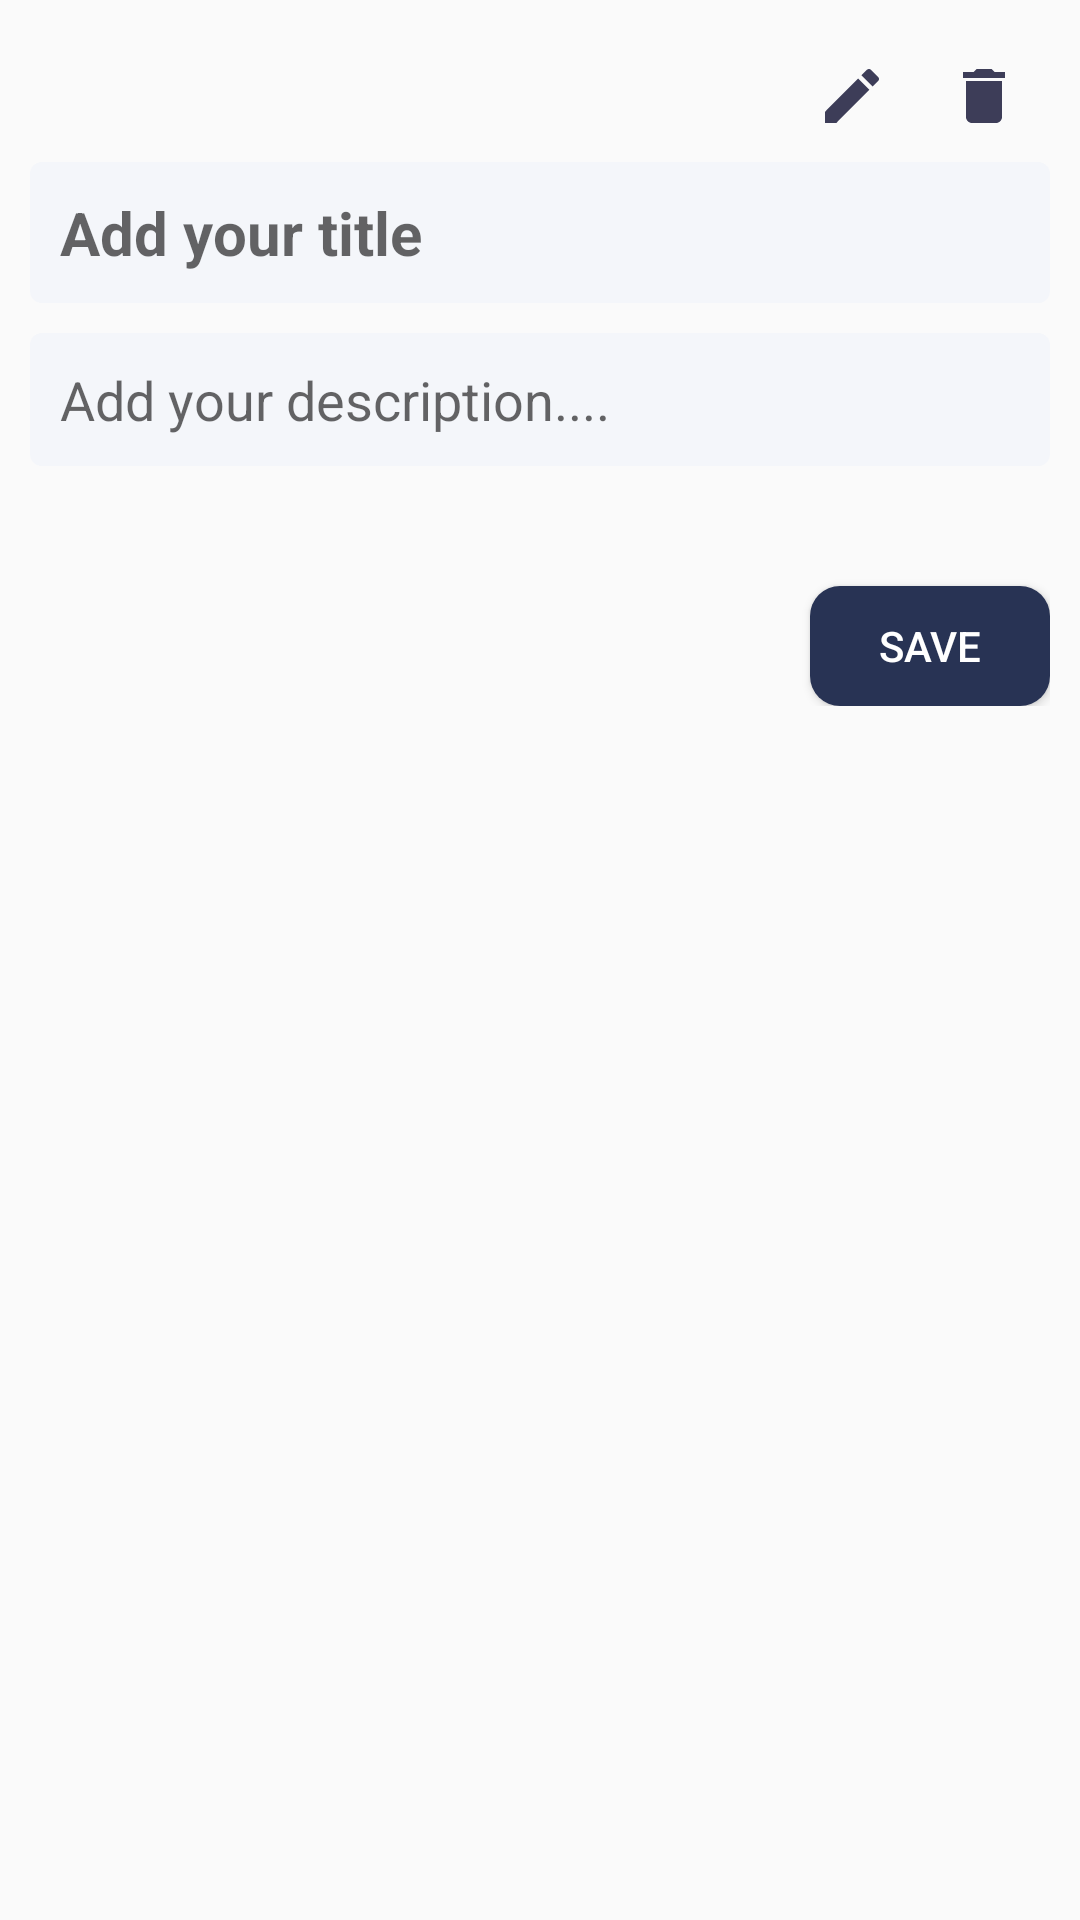

Locate icon controls on the screen. Image size 1080 × 1920, boxes as box=[x1, y1, x2, y2].
delete: box=[963, 69, 1005, 123]
edit: box=[825, 69, 879, 123]
